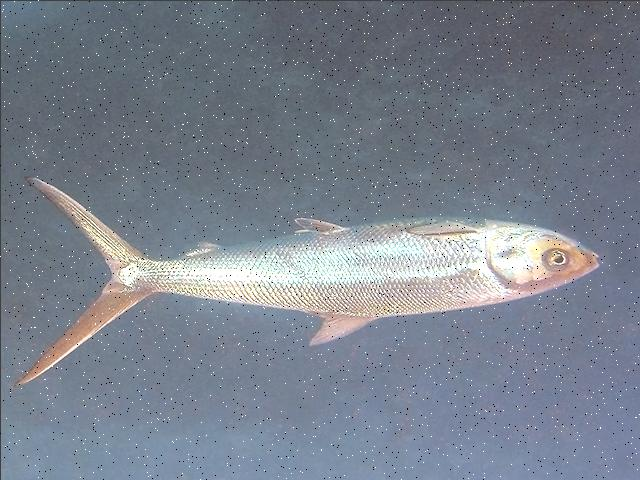Mulut: (560, 222, 616, 282)
Sirip Anal: (178, 230, 230, 268)
Sirip Dada: (397, 198, 487, 250)
Sirip Ekor: (3, 148, 158, 396)
Sirip Perut: (270, 198, 362, 253)
Sirip Punggung: (280, 300, 396, 354)
